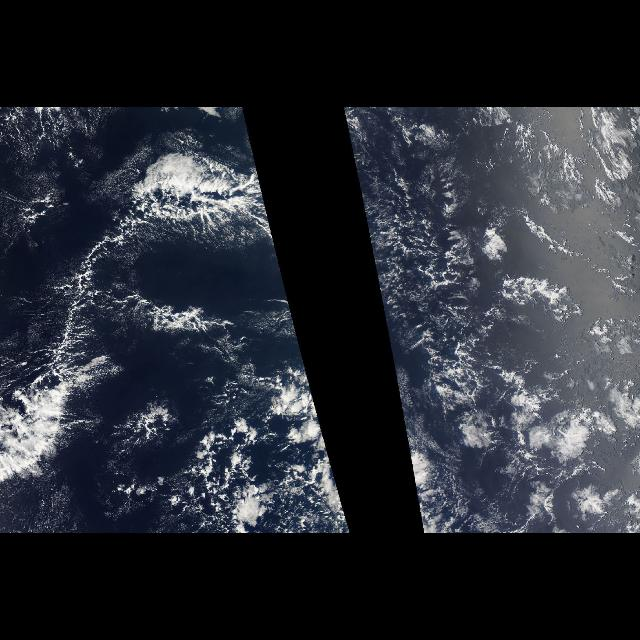Fish: (1, 147, 270, 480)
Gravel: (360, 144, 480, 338)
